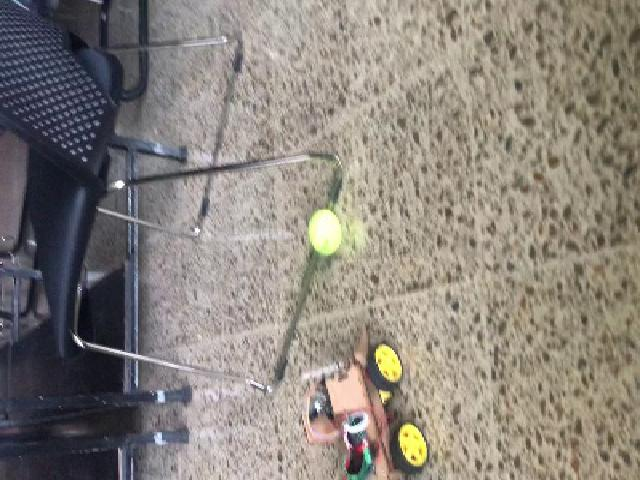Ball: (307, 209, 341, 256)
Robot: (304, 324, 427, 479)
